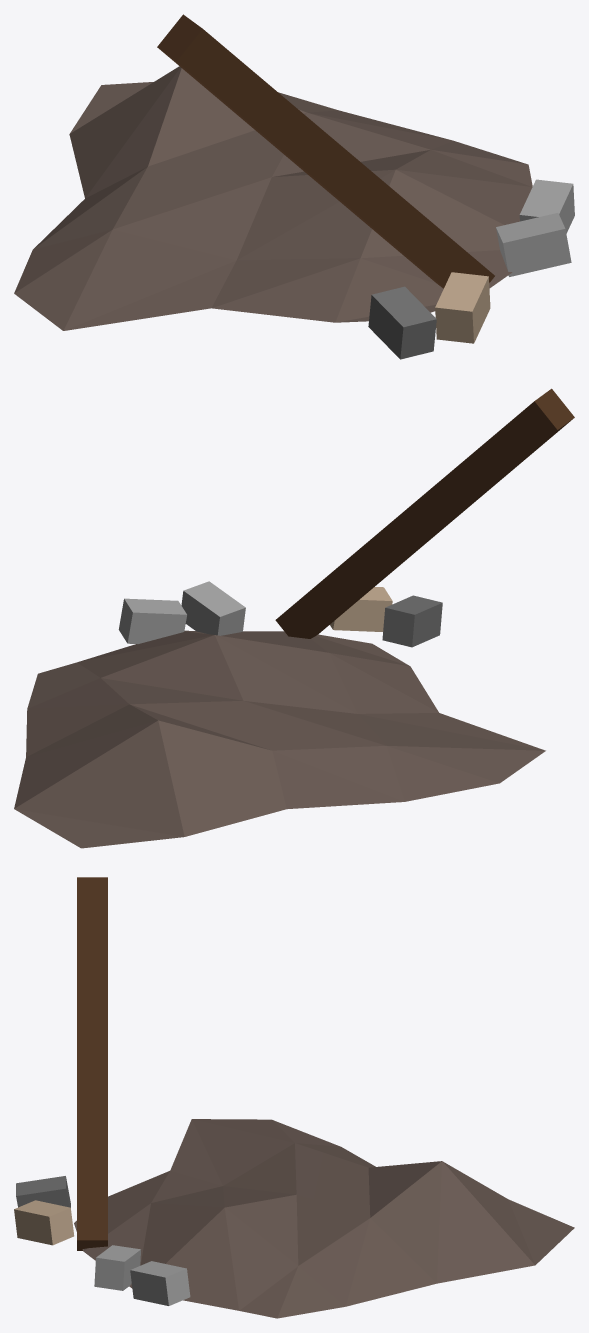
Rendered from rubbish_3.fbx.
3 views of the same model, one above another, from view 1: azimuth 30°, elevation 25°; view 2: azimuth 150°, elevation 25°; view 3: azimuth 270°, elevation 25° (orthographic). The views are drawn at different scales.
Parts seen in each view (by area): view 1: Object.035; view 2: Object.035; view 3: Object.035.
Part boxes in pixels (x1=…): Object.035: x1=14, y1=14, x2=574, y2=359; Object.035: x1=14, y1=388, x2=574, y2=848; Object.035: x1=14, y1=877, x2=574, y2=1318.
Bounding box in the file's own units: 932 × 591 × 1108.
